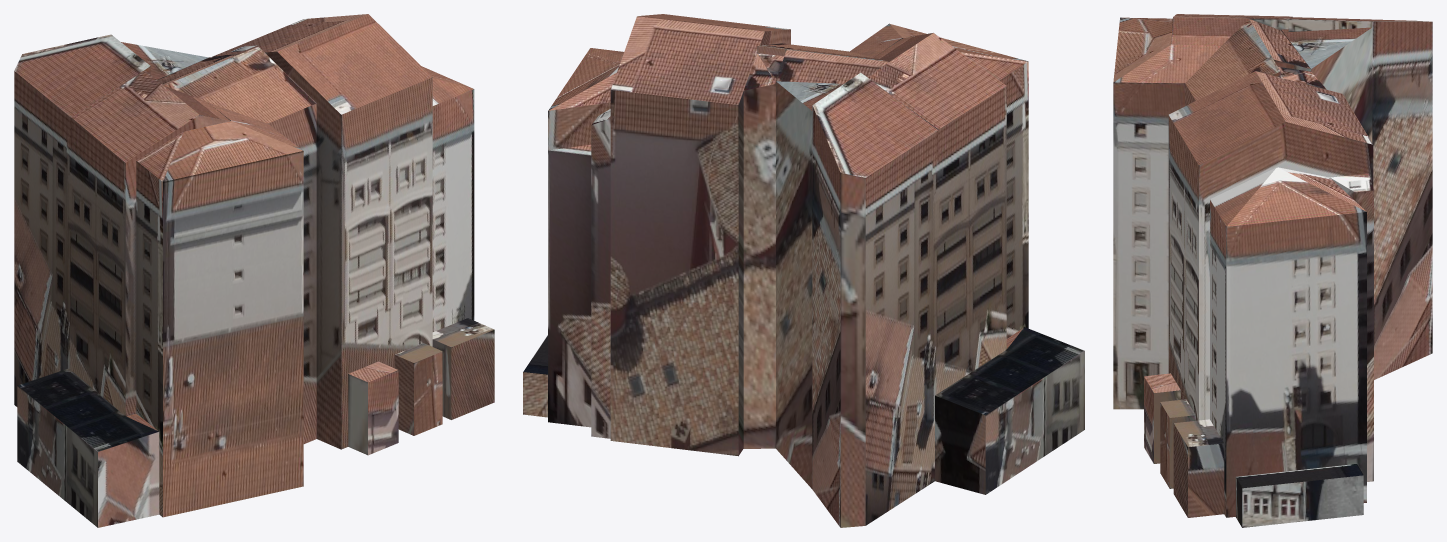
3 views of the same model, side by side, from view 1: azimuth 30°, elevation 25°; view 2: azimuth 150°, elevation 25°; view 3: azimuth 270°, elevation 25° (orthographic). The views are drawn at different scales.
Parts seen in each view (by area): view 1: Z_UP; view 2: Z_UP; view 3: Z_UP.
Part boxes in pixels (x1,y1,x2,y2): Z_UP: [14, 14, 494, 527]; Z_UP: [523, 14, 1084, 527]; Z_UP: [1113, 14, 1432, 527].
Bounding box in the file's own units: 36 × 28.49 × 22.88.
2 materials, 1 textured.
